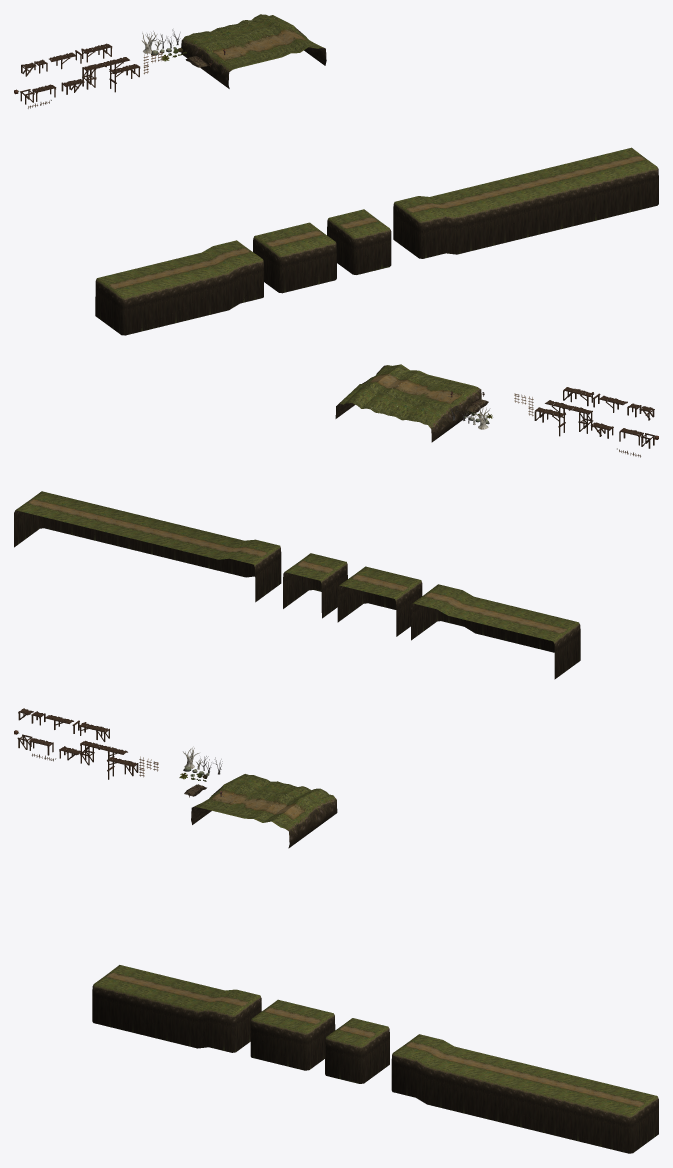
Rendered from Lv1_ZhiWu.FBX.
3 renders of one model, top to bottom at view 1: azimuth 30°, elevation 25°; view 2: azimuth 150°, elevation 25°; view 3: azimuth 330°, elevation 25°, orthographic.
Visible parts, largest first — view 1: Lv1_DiMian_04, Lv1_DiMian_01, Lv1_DiMian_02, Lv1_DiMian_03, Lv1_DiMian_end_L, Lv1_DiMian_10m_1, Lv1_DiMian_10m_2, Lv1_MuJia_04, Lv1_XiePo2_up, Lv1_XiePo1_up; view 2: Lv1_DiMian_04, Lv1_DiMian_01, Lv1_DiMian_02, Lv1_DiMian_03, Lv1_DiMian_end_L, Lv1_DiMian_10m_2, Lv1_DiMian_10m_1, Lv1_MuJia_04, Lv1_XiePo2_up, Lv1_XiePo1_up, Lv1_DiMian_5m; view 3: Lv1_DiMian_04, Lv1_DiMian_01, Lv1_DiMian_02, Lv1_DiMian_03, Lv1_DiMian_end_R, Lv1_DiMian_10m_1, Lv1_DiMian_10m_2, Lv1_MuJia_04.
Part boxes in pixels (left/top/right/bottom): Lv1_DiMian_04: left=393, top=147, right=658, bottom=258; Lv1_DiMian_01: left=95, top=240, right=263, bottom=335; Lv1_DiMian_02: left=253, top=222, right=336, bottom=293; Lv1_DiMian_03: left=327, top=209, right=391, bottom=274; Lv1_DiMian_end_L: left=181, top=35, right=236, bottom=88; Lv1_DiMian_10m_1: left=189, top=31, right=254, bottom=68; Lv1_DiMian_10m_2: left=207, top=27, right=272, bottom=63; Lv1_MuJia_04: left=82, top=57, right=140, bottom=92; Lv1_XiePo2_up: left=251, top=14, right=308, bottom=52; Lv1_XiePo1_up: left=234, top=20, right=290, bottom=57; Lv1_DiMian_04: left=14, top=491, right=281, bottom=602; Lv1_DiMian_01: left=411, top=584, right=580, bottom=679; Lv1_DiMian_02: left=337, top=566, right=422, bottom=636; Lv1_DiMian_03: left=283, top=553, right=347, bottom=618; Lv1_DiMian_end_L: left=424, top=385, right=481, bottom=442; Lv1_DiMian_10m_2: left=388, top=377, right=454, bottom=420; Lv1_DiMian_10m_1: left=406, top=381, right=472, bottom=423; Lv1_MuJia_04: left=534, top=400, right=593, bottom=436; Lv1_XiePo2_up: left=353, top=364, right=409, bottom=408; Lv1_XiePo1_up: left=370, top=370, right=427, bottom=413; Lv1_DiMian_5m: left=380, top=374, right=436, bottom=415; Lv1_DiMian_04: left=391, top=1034, right=658, bottom=1153; Lv1_DiMian_01: left=92, top=965, right=261, bottom=1052; Lv1_DiMian_02: left=250, top=999, right=335, bottom=1070; Lv1_DiMian_03: left=325, top=1018, right=389, bottom=1083; Lv1_DiMian_end_R: left=281, top=794, right=337, bottom=848; Lv1_DiMian_10m_1: left=200, top=775, right=266, bottom=811; Lv1_DiMian_10m_2: left=218, top=779, right=284, bottom=816; Lv1_MuJia_04: left=79, top=740, right=138, bottom=779.
Bounding box in the file's own units: 353 × 47.36 × 150.
